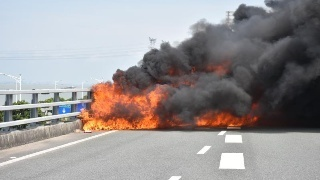fire: (78, 59, 261, 133)
